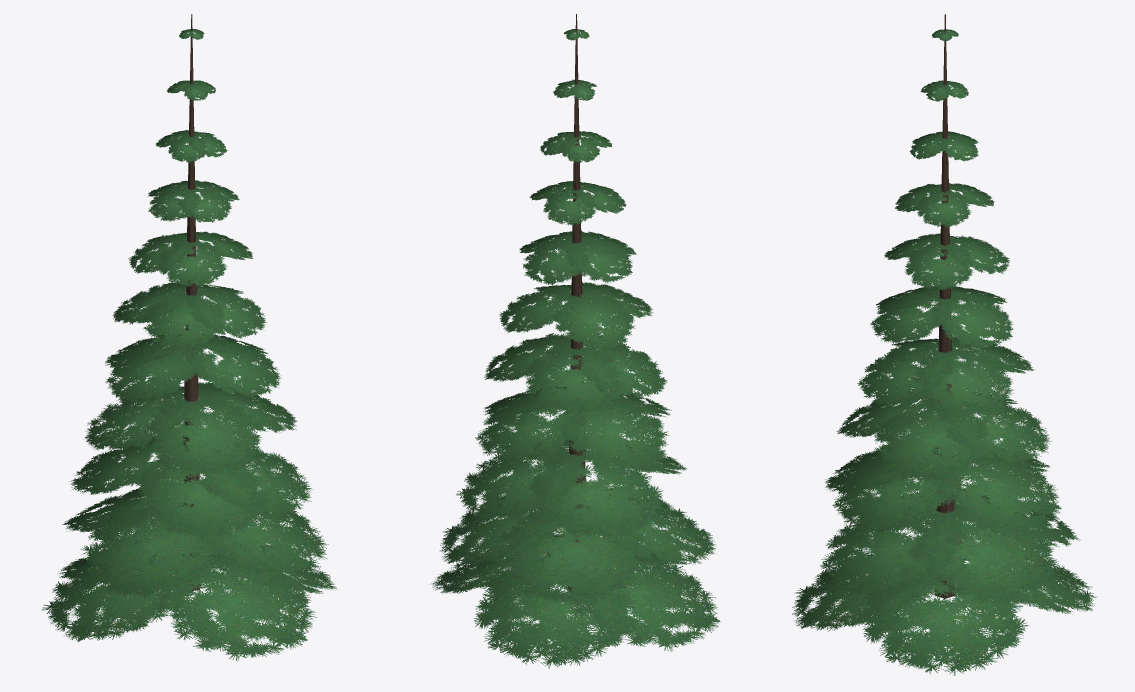
The model's file is Spruce_LOD1.fbx.
The picture shows the model from 3 angles, left to right: view 1: azimuth 30°, elevation 25°; view 2: azimuth 150°, elevation 25°; view 3: azimuth 270°, elevation 25°; orthographic projection.
Visible parts, largest first — view 1: Spruce_LOD1; view 2: Spruce_LOD1; view 3: Spruce_LOD1.
Part boxes in pixels (box(x1,y1,x2,y2)): Spruce_LOD1: box(42, 14, 337, 660); Spruce_LOD1: box(431, 14, 720, 668); Spruce_LOD1: box(792, 14, 1097, 675).
Bounding box in the file's own units: 10.33 × 20.76 × 10.67.
1 material, 1 textured.
